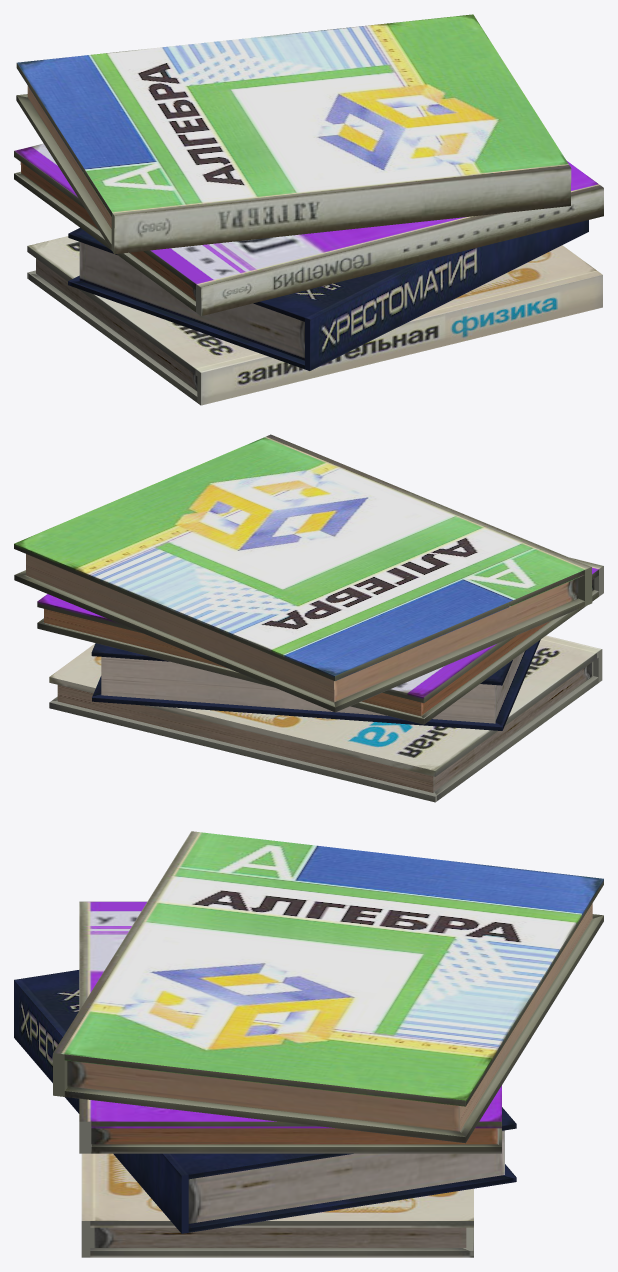
The model's file is book01.dae.
3 views of the same model, one above another, from view 1: azimuth 30°, elevation 25°; view 2: azimuth 150°, elevation 25°; view 3: azimuth 270°, elevation 25° (orthographic). The views are drawn at different scales.
Visible parts, largest first — view 1: book1, book3, book4, book2; view 2: book1, book3, book2, book4; view 3: book1, book2, book3, book4.
Boxes of the visible parts, x1,y1,x2,y2 form: book1: (16,14,571,254); book3: (27,236,602,405); book4: (14,143,603,316); book2: (68,220,588,370); book1: (14,434,592,712); book3: (49,635,602,802); book2: (91,639,540,730); book4: (37,557,603,724); book1: (53,831,603,1143); book2: (14,970,516,1233); book3: (81,1153,473,1257); book4: (79,901,501,1153).
Bounding box in the file's own units: 176 × 166 × 57.07.
4 materials, 4 textured.
